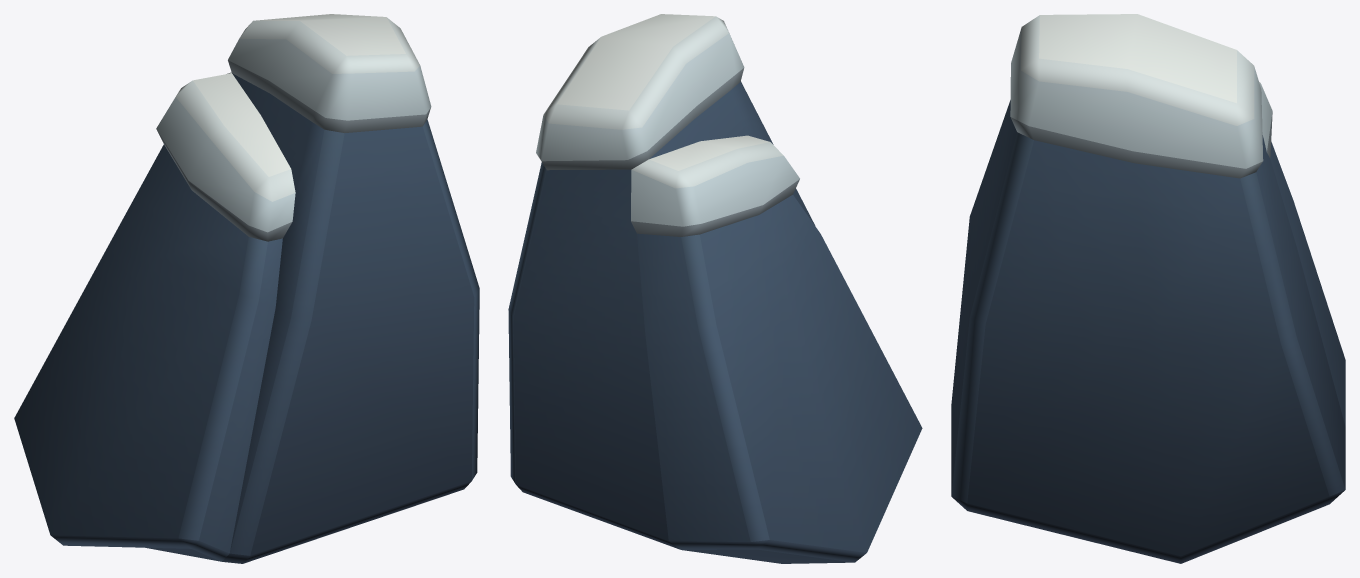
The model's file is rock_snow_011.fbx.
3 views of the same model, side by side, from view 1: azimuth 30°, elevation 25°; view 2: azimuth 150°, elevation 25°; view 3: azimuth 270°, elevation 25° (orthographic). The views are drawn at different scales.
Parts seen in each view (by area): view 1: rock_snow_011; view 2: rock_snow_011; view 3: rock_snow_011.
Boxes of the visible parts, x1,y1,x2,y2 form: rock_snow_011: (14, 14, 479, 563); rock_snow_011: (508, 14, 922, 563); rock_snow_011: (951, 14, 1345, 563).
Size of the model in its own units: 135 by 186 by 124.
1 material, 1 textured.
